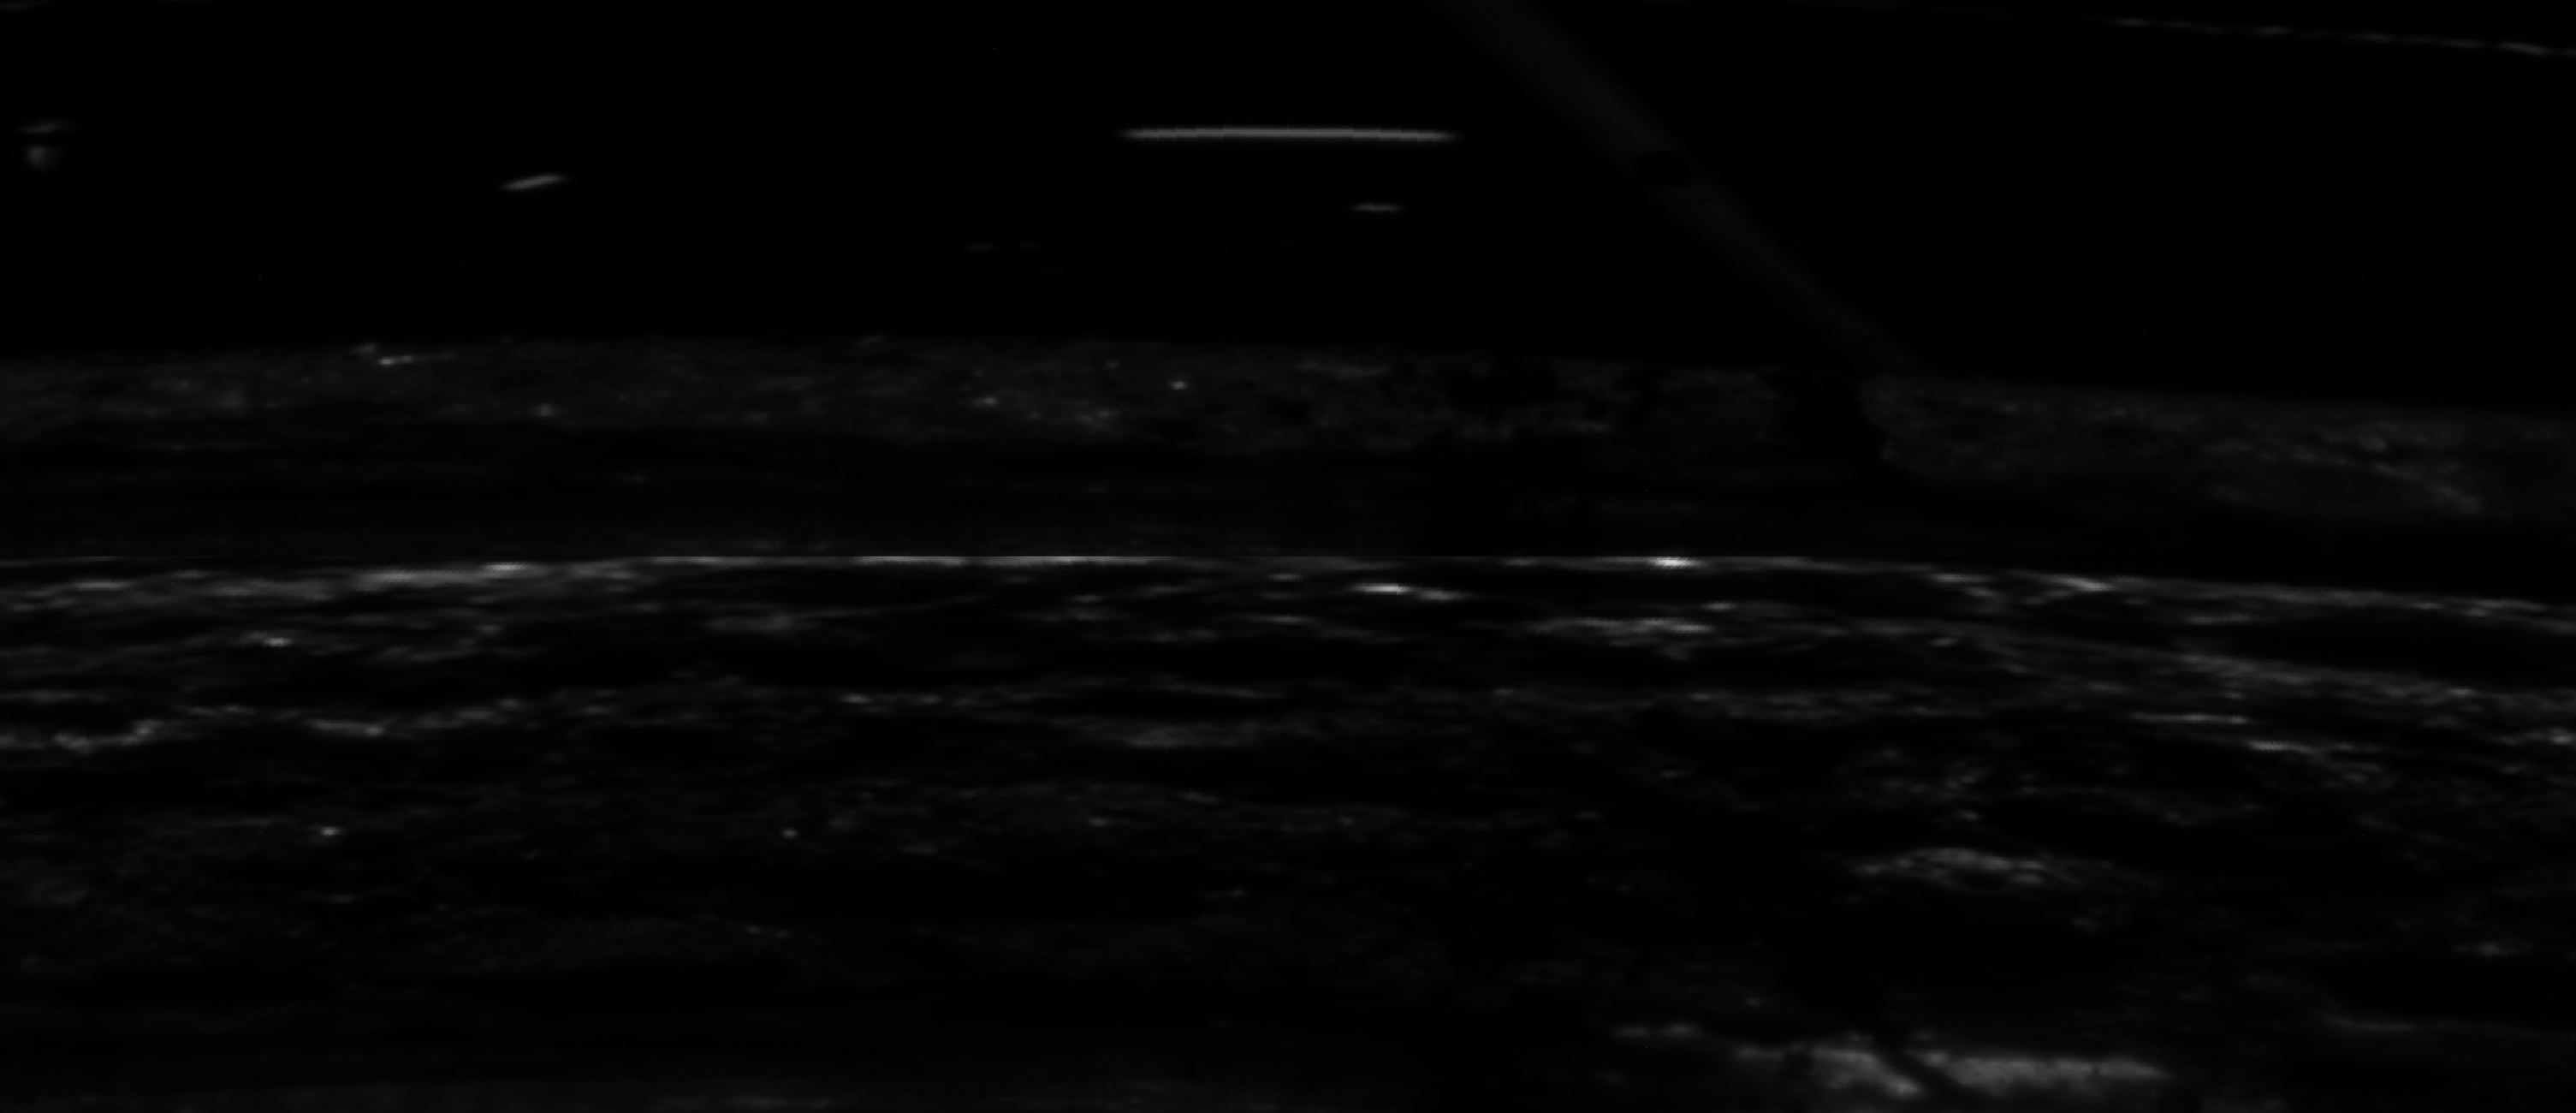corrosion: (18, 551, 2543, 1113), (33, 322, 2545, 580)
